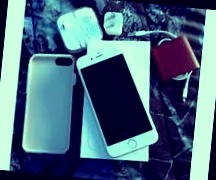iphone: (73, 44, 165, 158)
